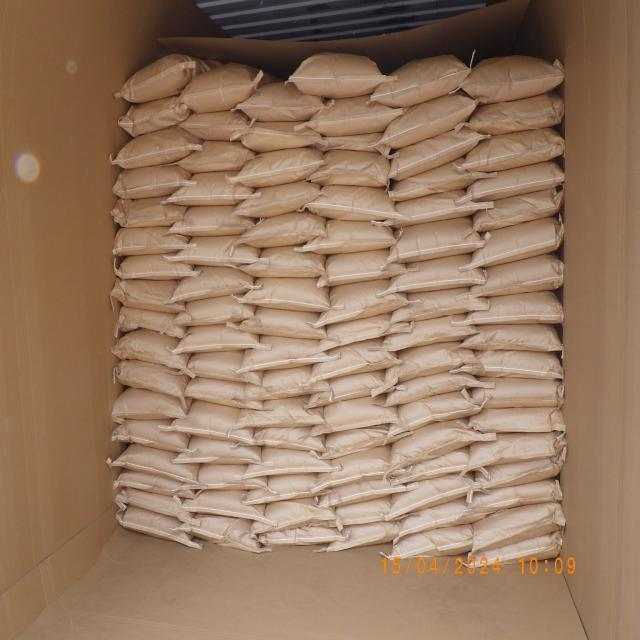gunny_bag: (383, 428, 496, 474), (470, 500, 567, 553), (373, 55, 470, 106), (469, 220, 564, 272), (388, 124, 476, 180), (380, 91, 472, 144), (110, 49, 196, 102), (466, 53, 565, 99), (309, 172, 394, 225), (383, 398, 482, 441), (380, 476, 484, 516), (292, 53, 386, 97), (465, 477, 568, 517), (383, 222, 485, 262), (464, 132, 566, 172), (378, 347, 484, 385), (170, 397, 252, 445), (176, 63, 262, 108), (115, 502, 199, 548), (467, 95, 565, 134), (308, 144, 394, 187), (238, 446, 334, 484), (385, 258, 486, 294), (316, 280, 406, 320), (190, 485, 275, 527), (394, 496, 482, 536), (474, 257, 564, 296), (312, 248, 404, 286), (468, 374, 565, 410), (293, 102, 402, 134), (178, 371, 263, 412), (388, 522, 475, 562), (108, 412, 188, 455), (180, 348, 266, 388), (382, 450, 472, 488), (234, 149, 326, 186), (310, 346, 398, 384), (472, 187, 562, 224), (110, 335, 188, 377), (110, 448, 201, 484), (172, 430, 258, 468), (182, 512, 258, 555), (246, 338, 332, 376), (238, 247, 328, 283), (173, 323, 271, 356), (471, 431, 569, 464), (235, 180, 322, 217), (116, 357, 188, 401), (171, 172, 256, 209), (182, 462, 269, 498), (238, 84, 324, 120), (456, 167, 566, 195), (234, 120, 324, 154), (242, 280, 332, 314), (318, 479, 416, 510), (473, 294, 562, 328), (252, 496, 336, 532), (236, 217, 322, 252), (465, 532, 562, 563), (465, 324, 565, 354), (172, 202, 255, 238), (468, 350, 564, 381), (315, 455, 393, 493), (378, 198, 491, 224), (110, 134, 196, 168), (235, 374, 332, 404), (387, 164, 484, 194), (390, 292, 490, 321), (176, 296, 256, 332), (386, 318, 480, 348), (252, 419, 328, 456), (244, 469, 329, 502), (244, 306, 324, 341), (115, 480, 188, 518), (105, 198, 189, 231), (308, 220, 398, 250), (312, 400, 396, 432), (472, 456, 566, 484), (324, 520, 398, 555), (110, 278, 188, 311), (384, 378, 494, 401), (112, 388, 186, 422), (115, 168, 191, 201), (170, 237, 256, 266), (110, 256, 198, 284), (120, 98, 188, 134), (176, 268, 252, 300), (320, 422, 396, 454), (468, 404, 564, 429), (180, 138, 252, 171), (308, 372, 382, 404), (317, 322, 407, 348), (118, 305, 188, 338), (108, 227, 188, 255), (181, 108, 253, 139), (112, 471, 194, 498), (261, 526, 346, 548), (238, 406, 322, 428), (333, 499, 391, 528), (250, 303, 252, 307)
